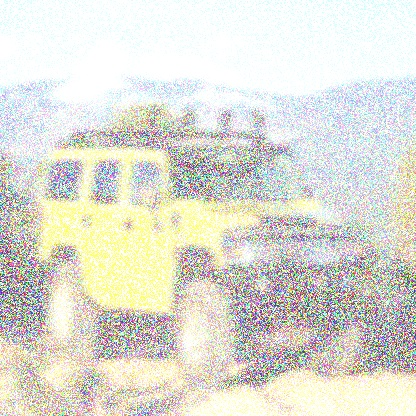Vehicle: (37, 103, 377, 393)
